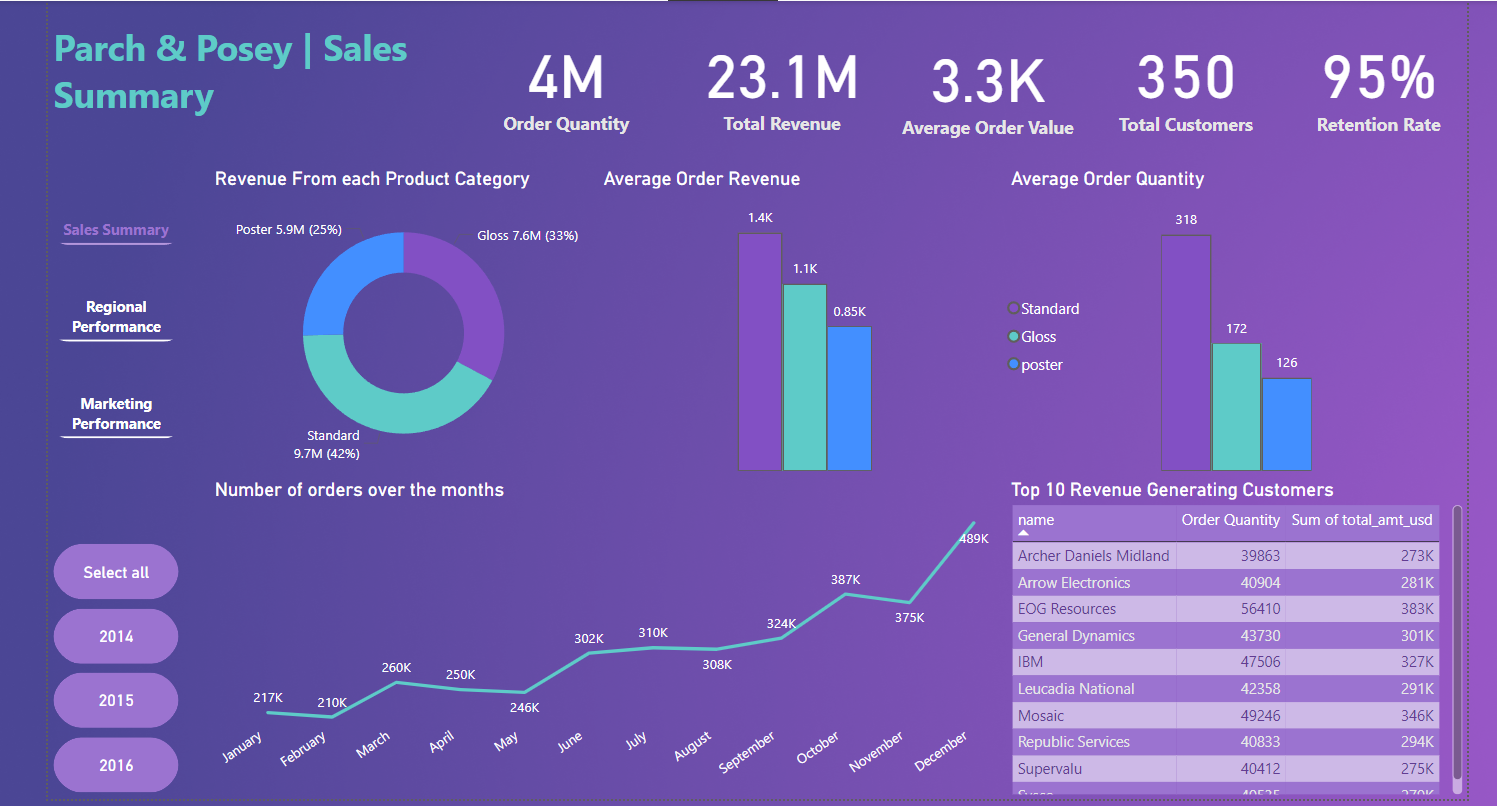

This screenshot's page, from the dashboard's own definition file:
{"tool":"powerbi","page":{"name":"Sales Summary","canvas":[1280,720],"ordinal":0},"visuals":[{"type":"lineChart","title":"Number of orders over the months","fields":{"Category":["orders.occurred_at.Variation.Date Hierarchy.Month"],"Y":["orders.Order Quantity"]},"box":[145.5,430.4,717.8,289.8],"z":0},{"type":"tableEx","title":"Top 10 Revenue Generating Customers","fields":{"Values":["accounts.name","orders.Order Quantity","Sum(orders.total_amt_usd)"]},"box":[863.3,430.4,417,289.8],"z":1000},{"type":"card","fields":{"Values":["Sum(orders.total_amt_usd)"]},"box":[562.5,0,199.3,144.3],"z":2000,"group":"g1"},{"type":"card","fields":{"Values":["orders.Order Quantity"]},"box":[371.7,0,190.8,144.3],"z":3000,"group":"g1"},{"type":"card","fields":{"Values":["accounts.Total Customers"]},"box":[933,2.4,185.9,140.6],"z":4000,"group":"g1"},{"type":"card","fields":{"Values":["Avg(orders.total_amt_usd)"]},"box":[761.8,7.3,171.2,135.7],"z":5000,"group":"g1"},{"type":"advancedSlicerVisual","fields":{"Values":["orders.occurred_at.Variation.Date Hierarchy.Year"]},"box":[0,484.2,123.5,236],"z":6000},{"type":"textbox","box":[0,0,371.7,150.4],"z":7000},{"type":"donutChart","title":"Revenue From each Product Category","fields":{"Y":["Sum(orders.gloss_amt_usd)","Sum(orders.standard_amt_usd)","Sum(orders.poster_amt_usd)"]},"box":[145.5,150.4,351,280],"z":8000},{"type":"clusteredColumnChart","title":"Average Order Revenue","fields":{"Y":["Avg(orders.standard_amt_usd)","Avg(orders.gloss_amt_usd)","Avg(orders.poster_amt_usd)"]},"box":[496.5,150.4,463.5,280],"z":9000},{"type":"clusteredColumnChart","title":"Average Order Quantity","fields":{"Y":["Avg(orders.standard_qty)","Avg(orders.gloss_qty)","Avg(orders.poster_qty)"]},"box":[863.3,150.4,417,280],"z":10000},{"type":"pageNavigator","box":[0,143.1,123.5,253.1],"z":11000},{"type":"card","fields":{"Values":["accounts.Retention Rate"]},"box":[1118.9,2.4,161.4,140.6],"z":12000,"group":"g1"},{"type":"group","id":"g1","title":"Group 1","box":[371.7,0,908.6,144.3],"z":12001}]}

Visuals, with their boxes on the page's 1280x720 design canvas (x1, y1, x2, y2). These are canvas units, not pixel positions in the 1497x806 screenshot, which may show the page scaled, cropped or inside an application window:
"Number of orders over the months" lineChart: box(146, 430, 863, 720)
"Top 10 Revenue Generating Customers" tableEx: box(863, 430, 1280, 720)
card - Sum(orders.total_amt_usd): box(562, 0, 762, 144)
card - orders.Order Quantity: box(372, 0, 562, 144)
card - accounts.Total Customers: box(933, 2, 1119, 143)
card - Avg(orders.total_amt_usd): box(762, 7, 933, 143)
advancedSlicerVisual - orders.occurred_at.Variation.Date Hierarchy.Year: box(0, 484, 124, 720)
textbox: box(0, 0, 372, 150)
"Revenue From each Product Category" donutChart: box(146, 150, 496, 430)
"Average Order Revenue" clusteredColumnChart: box(496, 150, 960, 430)
"Average Order Quantity" clusteredColumnChart: box(863, 150, 1280, 430)
pageNavigator: box(0, 143, 124, 396)
card - accounts.Retention Rate: box(1119, 2, 1280, 143)
"Group 1" group: box(372, 0, 1280, 144)
